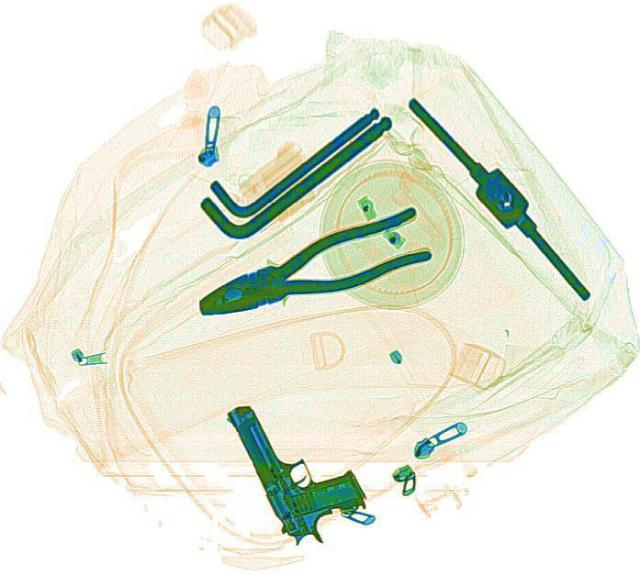Gun: (222, 383, 376, 551)
Pliers: (182, 202, 438, 335)
